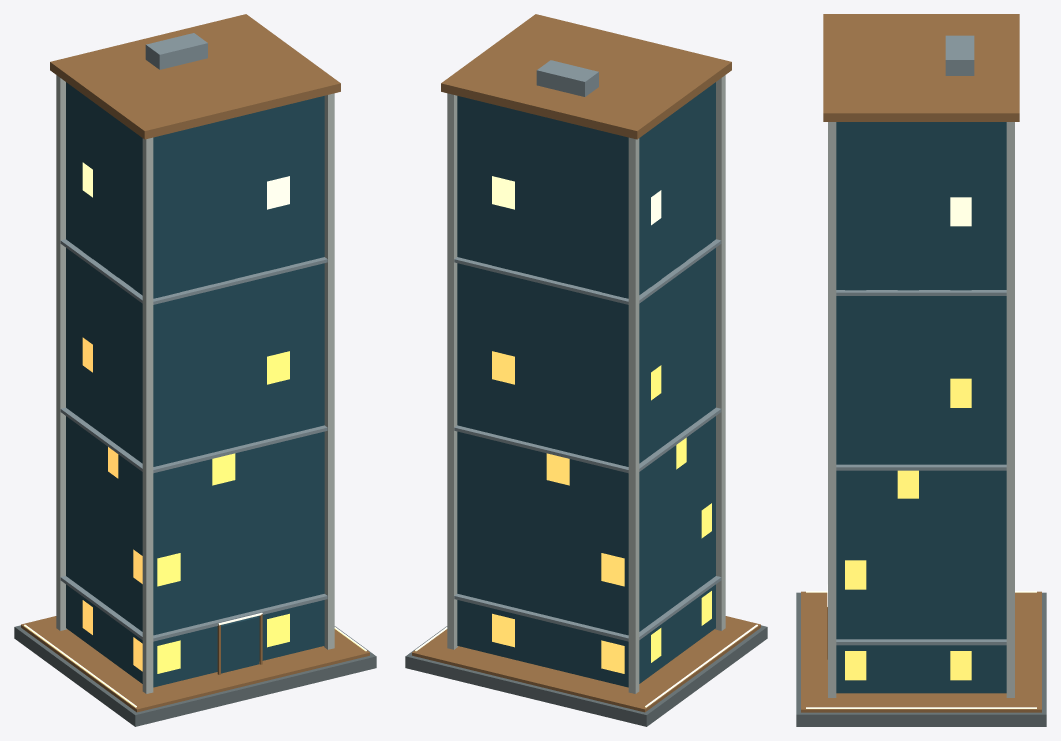
File: data-tower-a.lod2.glb
3 renders of one model, left to right at view 1: azimuth 30°, elevation 25°; view 2: azimuth 150°, elevation 25°; view 3: azimuth 270°, elevation 25°, orthographic. The views are drawn at different scales.
Parts seen in each view (by area): view 1: structure; view 2: structure; view 3: structure.
Part boxes in pixels (<box>): structure: <box>14,14,376,726</box>; structure: <box>405,14,767,726</box>; structure: <box>796,14,1046,726</box>.
Size of the model in its own units: 15 by 35.4 by 13.
